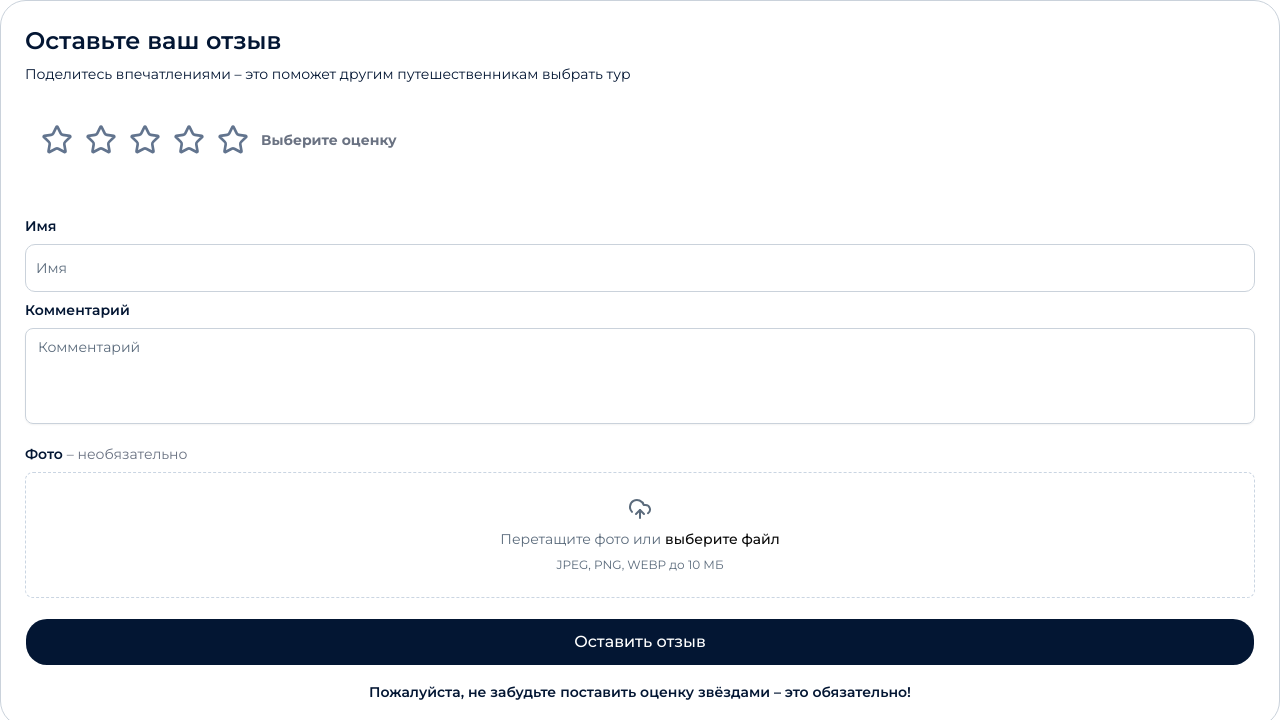
it: CreateReviewForm › показывает экран благодарности после отправки
Step 1. Click the 5th button named "звезда" → coordinates (233, 140), box [217,124,249,156]
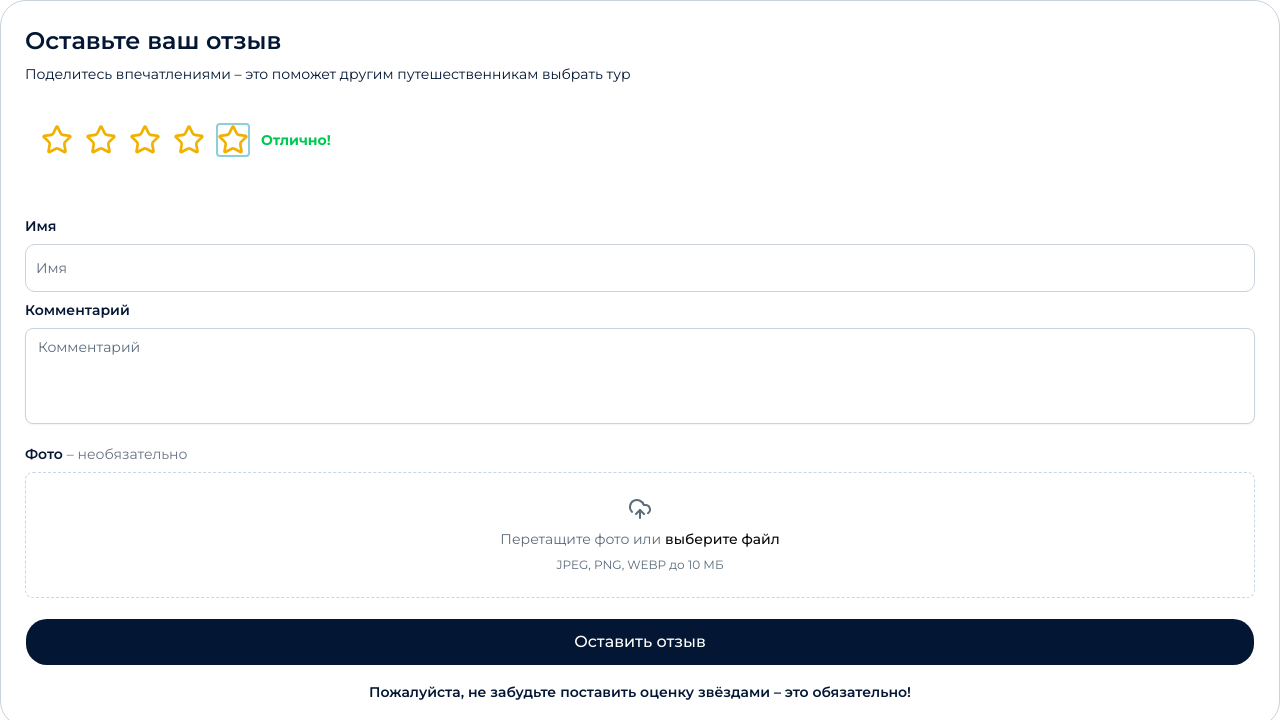
Step 2. Type "Иван" into the field with placeholder "Имя" → coordinates (640, 268), box [25,244,1255,292]
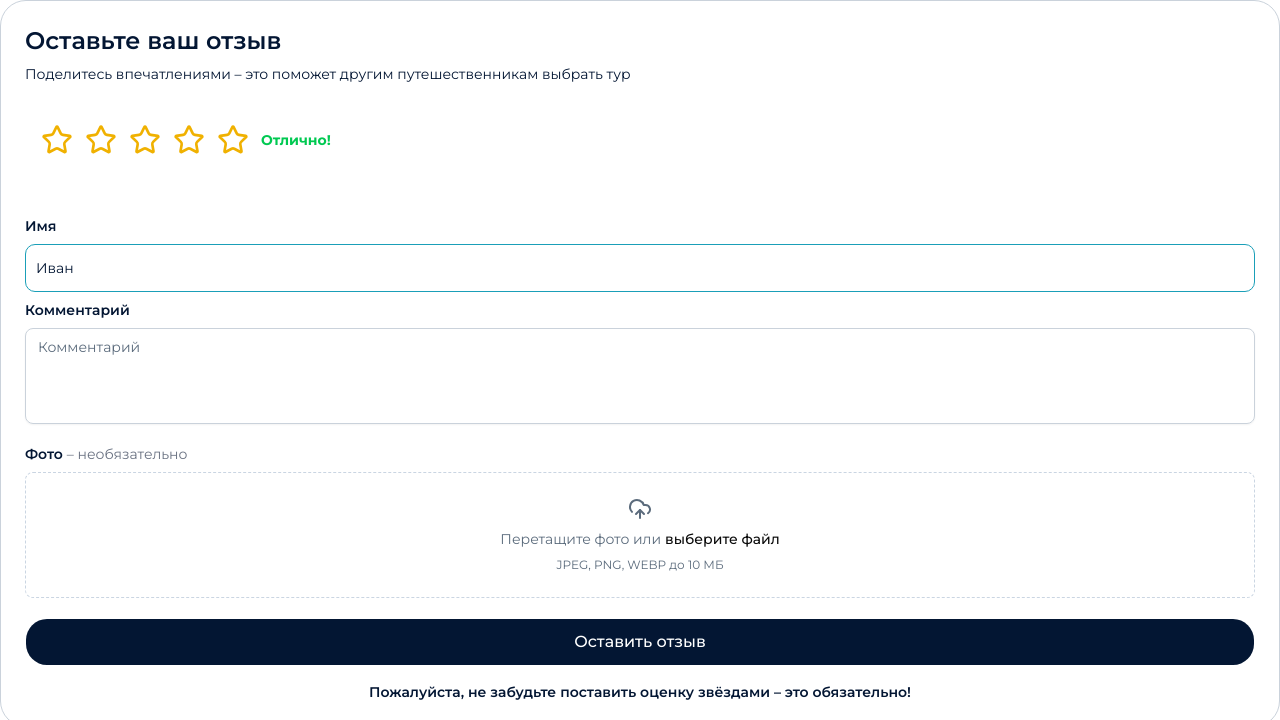
Step 3. Type "Отличный тур" into the text box with placeholder "Комментарий" → coordinates (640, 376), box [25,328,1255,424]
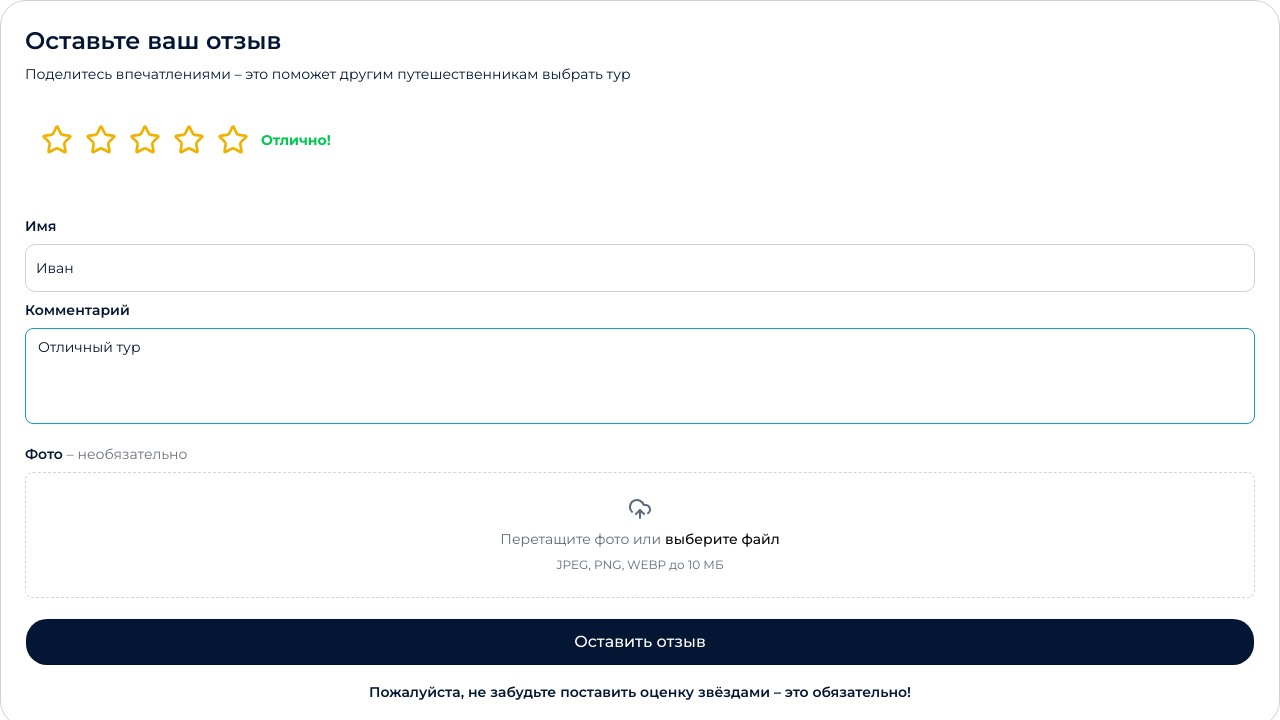
Step 4. Click the button "Оставить отзыв" → coordinates (640, 642), box [25,618,1255,666]
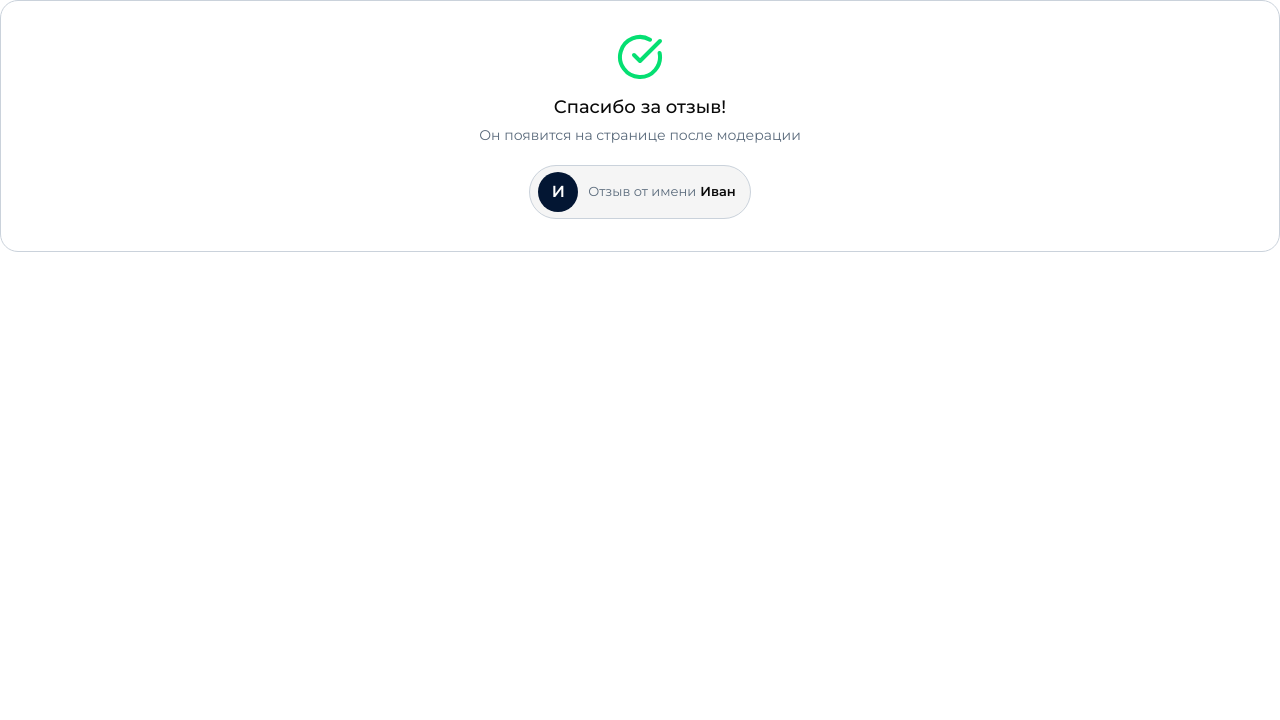
Result: the heading "Спасибо за отзыв!" is shown at [554,96,726,118]
Result: the text "Иван" is shown at [700,182,736,202]
